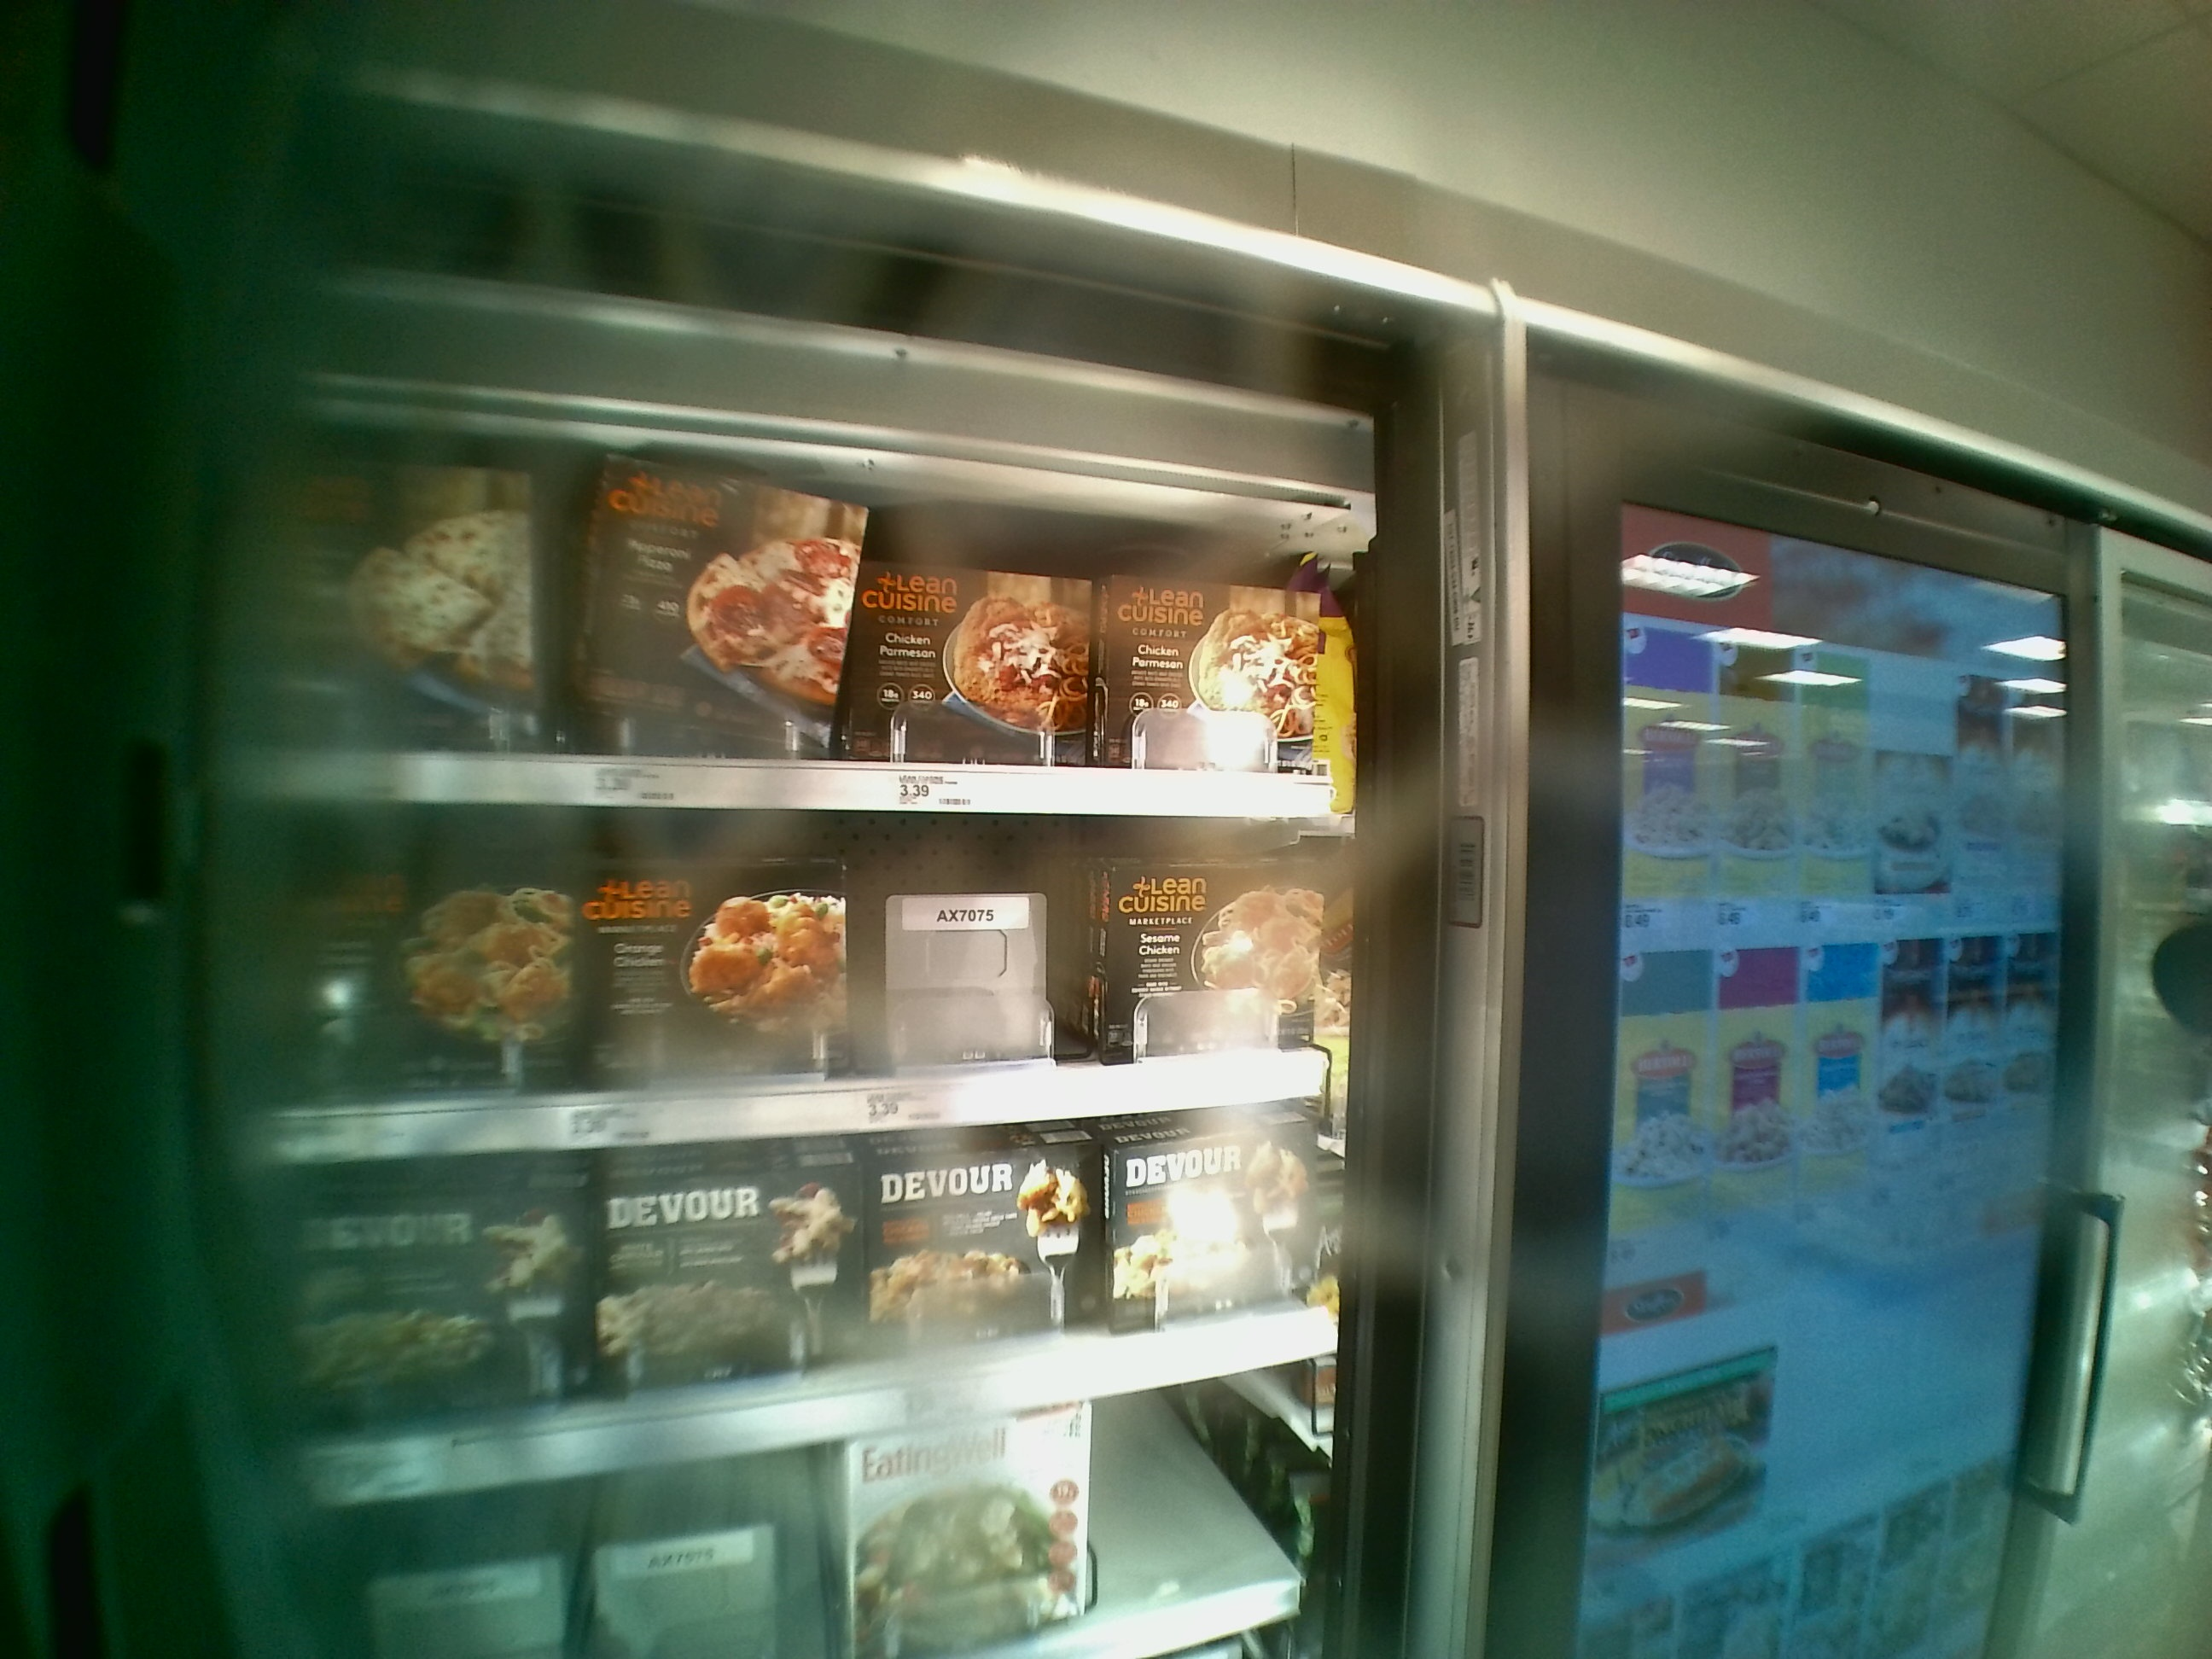shelf: (209, 392, 1353, 823), (249, 1089, 1327, 1492), (221, 809, 1355, 1162)
